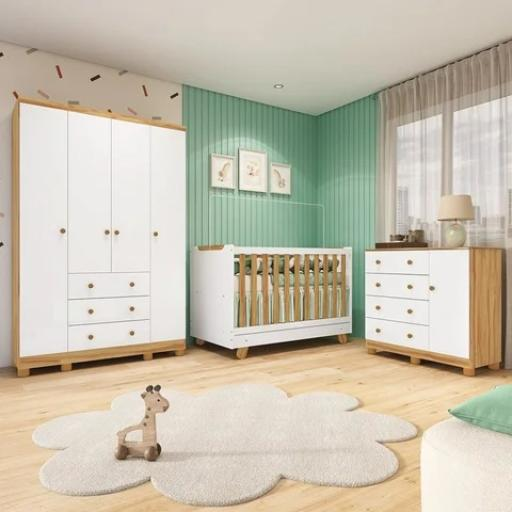crib: (190, 246, 351, 358)
